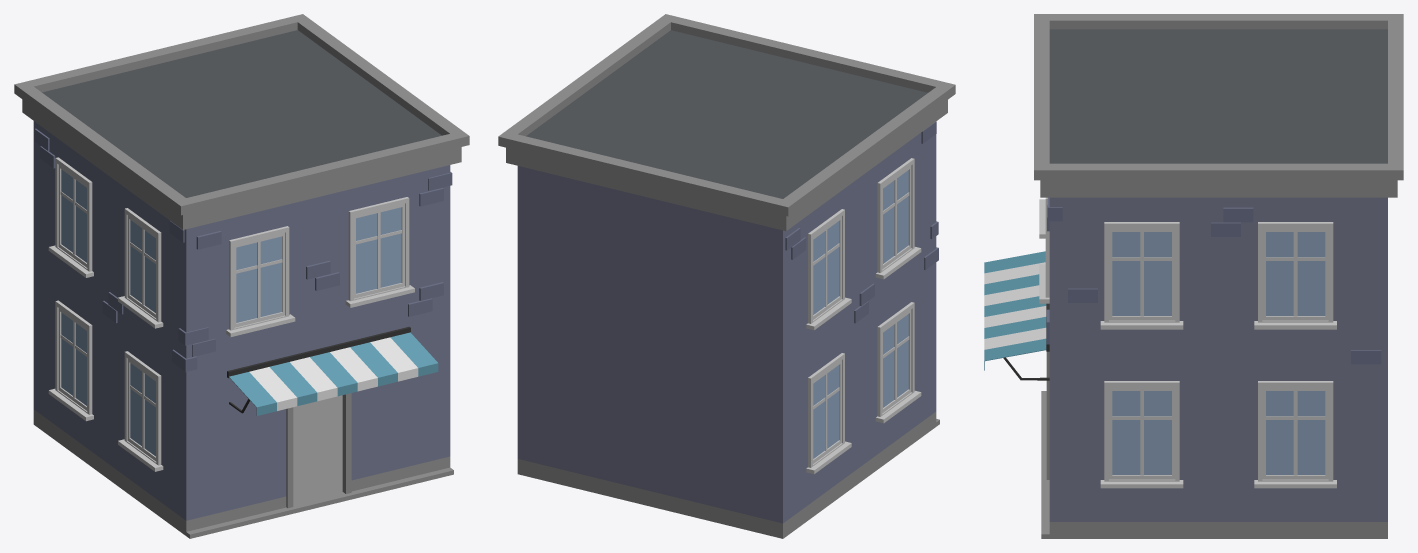
The model's file is House_04.fbx.
3 views of the same model, side by side, from view 1: azimuth 30°, elevation 25°; view 2: azimuth 150°, elevation 25°; view 3: azimuth 270°, elevation 25° (orthographic). The views are drawn at different scales.
Parts seen in each view (by area): view 1: House_04; view 2: House_04; view 3: House_04.
Part boxes in pixels (<box>): House_04: <box>14,14,469,538</box>; House_04: <box>498,14,955,538</box>; House_04: <box>984,14,1403,538</box>.
Size of the model in its own units: 492 by 551 by 558.
